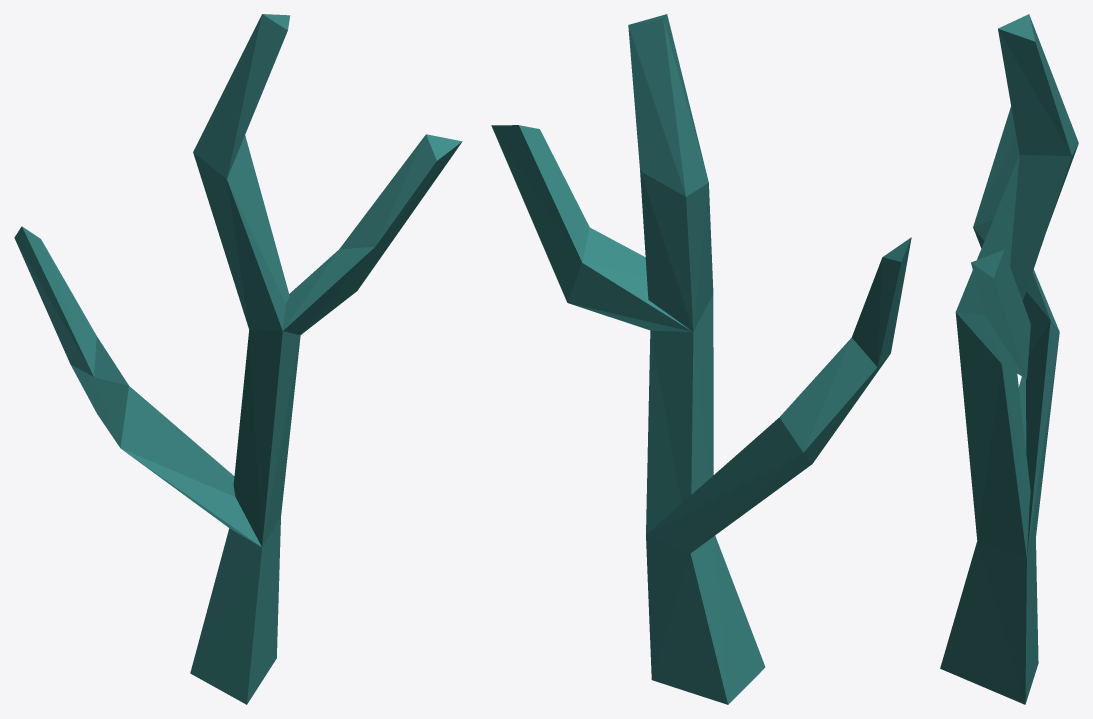
The model's file is SM_Seaweed_Small_A.fbx.
The picture shows the model from 3 angles, left to right: view 1: azimuth 30°, elevation 25°; view 2: azimuth 150°, elevation 25°; view 3: azimuth 270°, elevation 25°; orthographic projection. The views are drawn at different scales.
Parts seen in each view (by area): view 1: seaweed-small-a; view 2: seaweed-small-a; view 3: seaweed-small-a.
Boxes of the visible parts, left/top/right/bottom form: seaweed-small-a: left=14, top=14, right=462, bottom=704; seaweed-small-a: left=491, top=14, right=911, bottom=704; seaweed-small-a: left=940, top=14, right=1078, bottom=704.
Bounding box in the file's own units: 0.3794 × 0.5518 × 0.1015.
